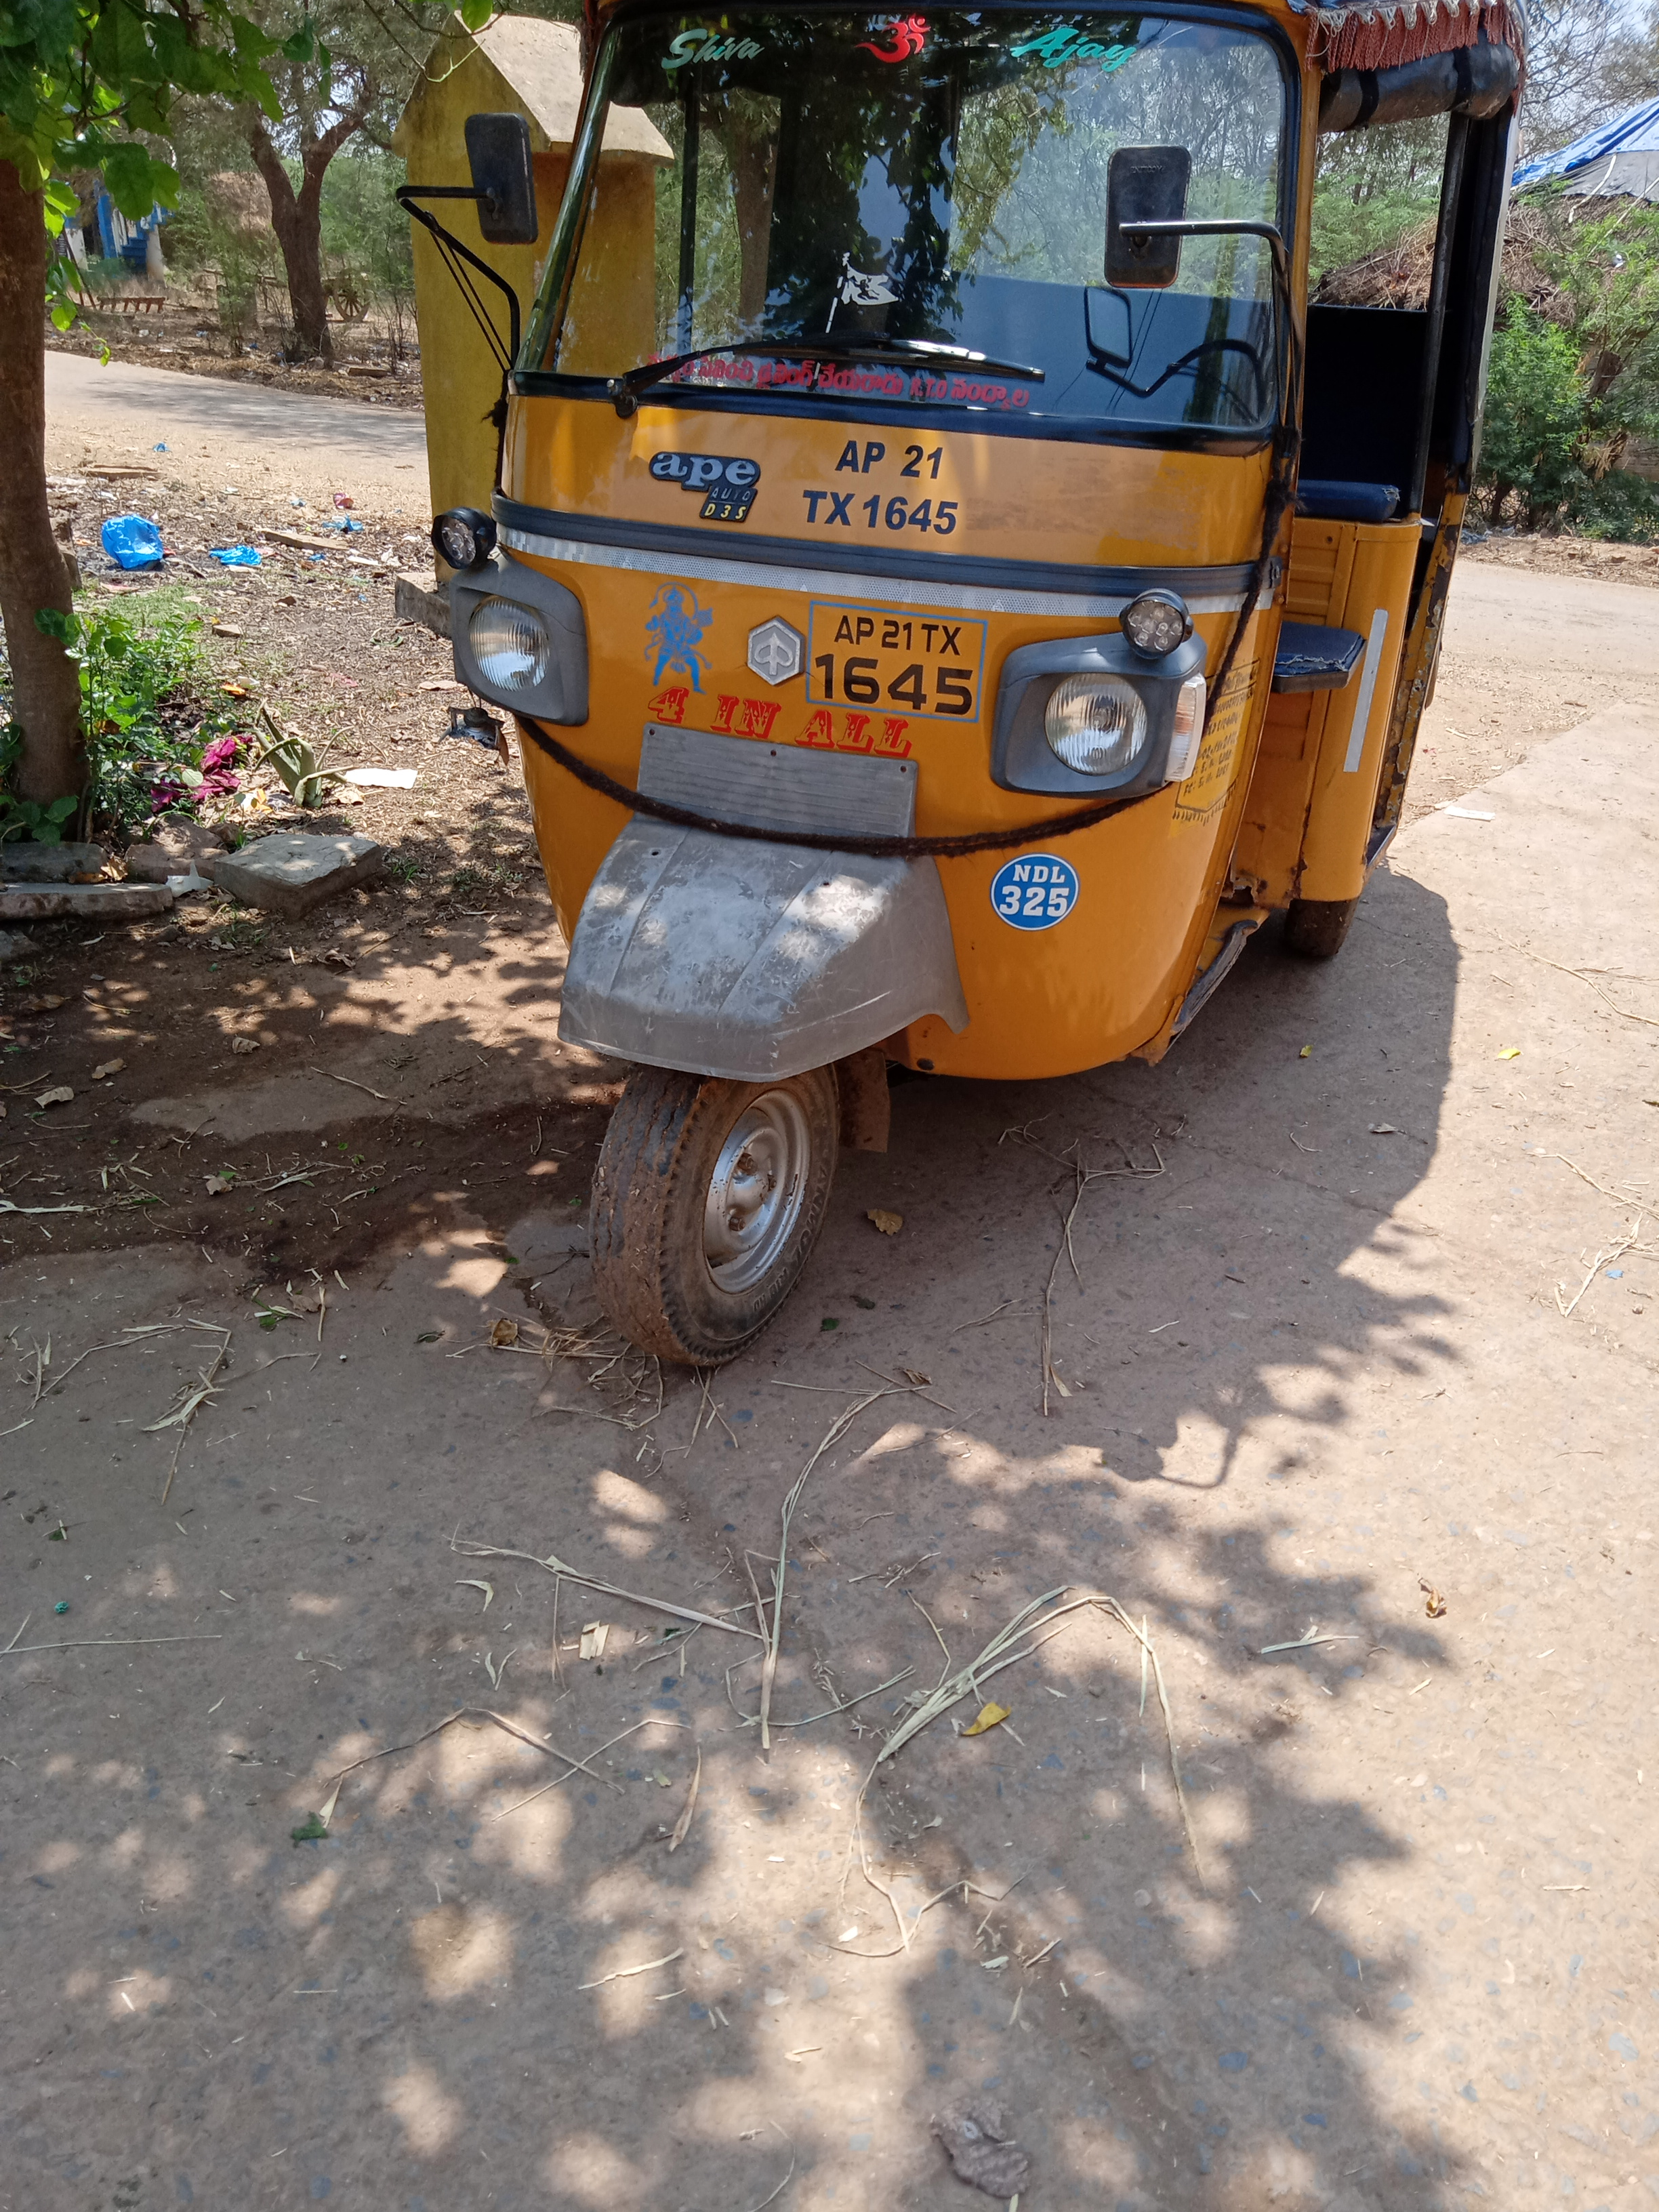auto: (375, 1, 1532, 1388)
number_plate: (794, 404, 985, 557), (796, 594, 987, 725)
